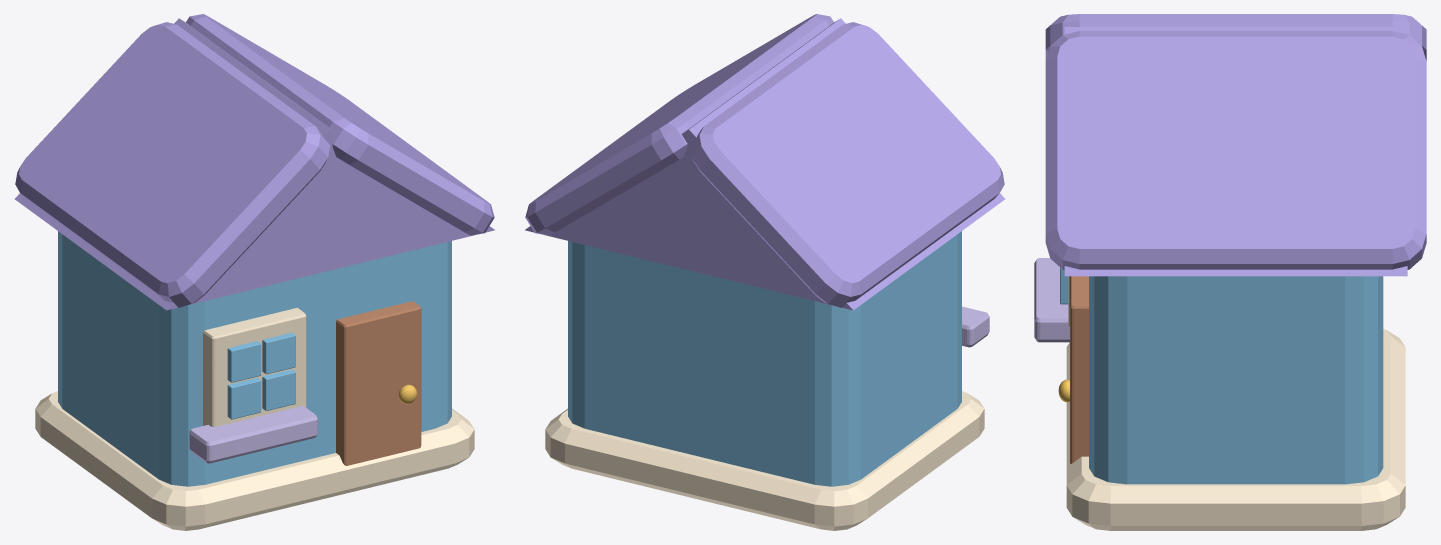
File: house_blue.glb
The picture shows the model from 3 angles, left to right: view 1: azimuth 30°, elevation 25°; view 2: azimuth 150°, elevation 25°; view 3: azimuth 270°, elevation 25°; orthographic projection. The views are drawn at different scales.
Visible parts, largest first — view 1: roof, walls, model, foundation, door, window_frame; view 2: walls, roof, model, foundation; view 3: roof, walls, foundation, model, door.
Part boxes in pixels (box(x1,y1,x2,y2)): roof: box(15, 14, 494, 307); walls: box(58, 231, 451, 486); model: box(14, 18, 494, 463); foundation: box(35, 391, 474, 530); door: box(336, 301, 421, 465); window_frame: box(203, 307, 306, 427); walls: box(568, 231, 961, 486); roof: box(525, 14, 1004, 307); model: box(525, 18, 1005, 347); foundation: box(545, 391, 984, 530); roof: box(1045, 14, 1426, 269); walls: box(1089, 276, 1383, 484); foundation: box(1066, 329, 1405, 530); model: box(1034, 27, 1407, 402); door: box(1070, 276, 1088, 463).
Size of the model in its own units: 2.2 by 2.4 by 2.
